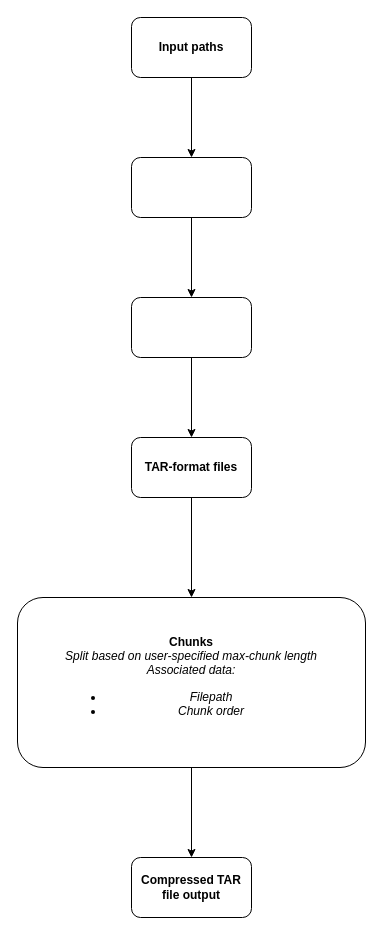
Some shapes in this 383 by 935 pixel diagram are drawn without their labels. Each missing label, with the box of its shape:
All filepaths: (130, 156, 252, 218)
Loaded files: (130, 296, 252, 358)
